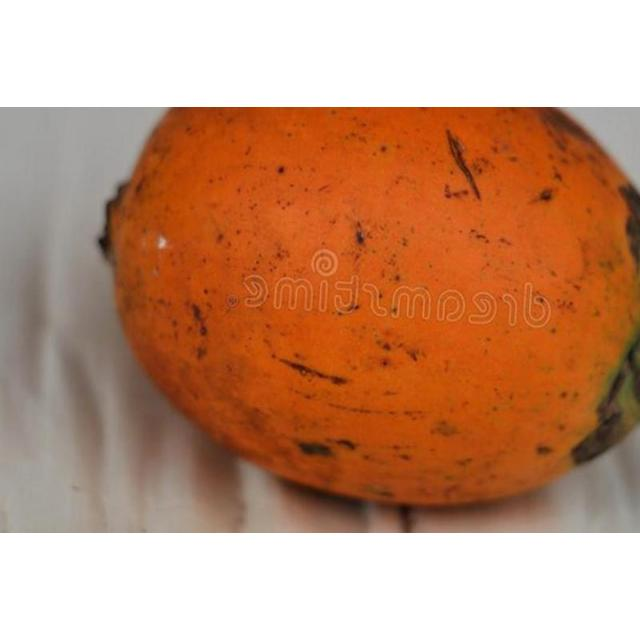good: (98, 107, 639, 511)
